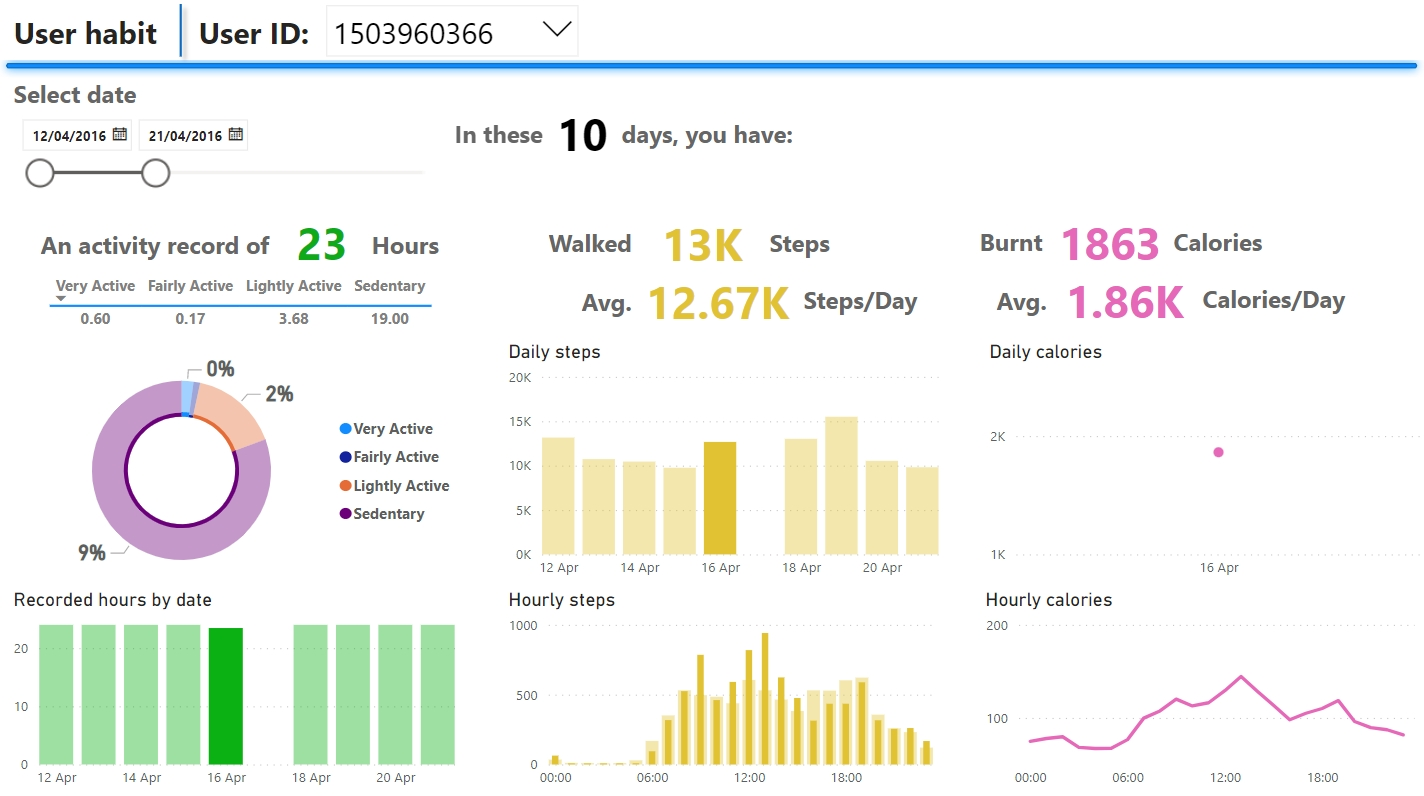

This screenshot's page, from the dashboard's own definition file:
{"tool":"powerbi","page":{"name":"UserHabit","canvas":[1280,720],"ordinal":0},"visuals":[{"type":"textbox","box":[9.9,10.7,150.4,49.3],"z":0},{"type":"shape","box":[154,0,21.5,65.4],"z":1000},{"type":"donutChart","fields":{"Y":["Sum(dailyActivity_user.VeryActiveHr)","Sum(dailyActivity_user.FairlyActiveHr)","Sum(dailyActivity_user.LightlyActiveHr)","Sum(dailyActivity_user.TotalSedentaryHr)"]},"box":[19.7,307.3,399.4,239.1],"z":2000},{"type":"slicer","title":"Select date","fields":{"Values":["Date.Date"]},"box":[9.9,74.3,394.9,106.6],"z":3000},{"type":"textbox","box":[34,205.2,223.9,39.4],"z":4000},{"type":"textbox","box":[330.4,205.2,81.5,43],"z":5000},{"type":"textbox","box":[686.7,203.3,81.5,43],"z":6000},{"type":"card","fields":{"Values":["Sum(dailyActivity_user.TotalSteps)"]},"box":[575.6,199.8,111,45.7],"z":7000},{"type":"textbox","box":[488.8,203.3,97.6,42.1],"z":8000},{"type":"tableEx","fields":{"Values":["Sum(dailyActivity_user.Very Active)","Sum(dailyActivity_user.Fairly Active)","Sum(dailyActivity_user.Lightly Active)","Sum(dailyActivity_user.Sedentary)"]},"box":[41.2,246.4,367.2,62.7],"z":9000},{"type":"textbox","box":[175.5,10.7,121.8,49.3],"z":10000},{"type":"textbox","box":[404.8,105.7,98.5,37.6],"z":11000},{"type":"textbox","box":[554.3,105.7,185.4,37.6],"z":12000},{"type":"card","fields":{"Values":["dailyActivity_user.DayDiff"]},"box":[491.6,94,65.4,60.9],"z":13000},{"type":"card","fields":{"Values":["Sum(dailyActivity_user.TotalHr)"]},"box":[250.7,198.9,81.5,45.7],"z":14000},{"type":"textbox","box":[518.7,256.4,66.3,42.1],"z":15000},{"type":"card","fields":{"Values":["Avg(dailyActivity_user.TotalSteps)"]},"box":[575.2,251.9,141.5,45.7],"z":16000},{"type":"textbox","box":[717.5,254.5,128.1,43],"z":17000},{"type":"textbox","box":[1048.7,202.4,116.4,43],"z":18000},{"type":"textbox","box":[875.1,202.4,97.6,42.1],"z":19000},{"type":"textbox","box":[890.5,255.4,69.9,42.1],"z":20000},{"type":"card","fields":{"Values":["Avg(dailyActivity_user.Calories)"]},"box":[945.2,250.9,128.1,45.7],"z":21000},{"type":"textbox","box":[1074.2,253.7,146,43],"z":22000},{"type":"lineChart","title":"Daily calories","fields":{"Category":["dailyActivity_user.ActivityDate"],"Y":["Avg(dailyActivity_user.Calories)"]},"box":[884.1,309.4,395.9,222],"z":23000},{"type":"card","fields":{"Values":["Sum(dailyActivity_user.Calories)"]},"box":[945.6,198.7,102.1,45.7],"z":24000},{"type":"clusteredColumnChart","title":"Daily steps","fields":{"Category":["dailyActivity_user.ActivityDate"],"Y":["Avg(dailyActivity_user.TotalSteps)"]},"box":[452.9,309.4,399.8,222],"z":25000},{"type":"clusteredColumnChart","title":"Hourly steps","fields":{"Category":["hourlySteps_duplicate.ActivityHour"],"Y":["Avg(hourlySteps_duplicate.Steps)"]},"box":[452.8,531.9,400.3,188.1],"z":26000},{"type":"lineChart","title":"Hourly calories","fields":{"Category":["hourlyCalories.ActivityHour"],"Y":["Avg(hourlyCalories.Calories)"]},"box":[880.3,531.9,399.4,188.1],"z":27000},{"type":"clusteredColumnChart","title":"Recorded hours by date","fields":{"Category":["dailyActivity_user.ActivityDate"],"Y":["Sum(dailyActivity_user.TotalHr)"]},"box":[9.9,531.9,409.3,188.1],"z":28000},{"type":"slicer","title":"Select User","fields":{"Values":["dailyActivity_user.Id"]},"box":[284.8,0,246.3,76.1],"z":29000},{"type":"shape","box":[0,53.7,1279.7,20.6],"z":30000}]}

Visuals, with their boxes in screenshot pixels (x1, y1, x2, y2), scaled from the page's 1280x720 canvas onto the 1424x796 screenshot:
textbox: rect(11, 12, 178, 66)
shape: rect(171, 0, 195, 72)
donutChart - Sum(dailyActivity_user.VeryActiveHr) x Sum(dailyActivity_user.FairlyActiveHr): rect(22, 340, 466, 604)
"Select date" slicer: rect(11, 82, 450, 200)
textbox: rect(38, 227, 287, 270)
textbox: rect(368, 227, 458, 274)
textbox: rect(764, 225, 855, 272)
card - Sum(dailyActivity_user.TotalSteps): rect(640, 221, 764, 271)
textbox: rect(544, 225, 652, 271)
tableEx - Sum(dailyActivity_user.Very Active) x Sum(dailyActivity_user.Fairly Active): rect(46, 272, 454, 342)
textbox: rect(195, 12, 331, 66)
textbox: rect(450, 117, 560, 158)
textbox: rect(617, 117, 823, 158)
card - dailyActivity_user.DayDiff: rect(547, 104, 620, 171)
card - Sum(dailyActivity_user.TotalHr): rect(279, 220, 370, 270)
textbox: rect(577, 283, 651, 330)
card - Avg(dailyActivity_user.TotalSteps): rect(640, 278, 797, 329)
textbox: rect(798, 281, 941, 329)
textbox: rect(1167, 224, 1296, 271)
textbox: rect(974, 224, 1082, 270)
textbox: rect(991, 282, 1068, 329)
card - Avg(dailyActivity_user.Calories): rect(1052, 277, 1194, 328)
textbox: rect(1195, 280, 1357, 328)
"Daily calories" lineChart: rect(984, 342, 1423, 587)
card - Sum(dailyActivity_user.Calories): rect(1052, 220, 1166, 270)
"Daily steps" clusteredColumnChart: rect(504, 342, 949, 587)
"Hourly steps" clusteredColumnChart: rect(504, 588, 949, 795)
"Hourly calories" lineChart: rect(979, 588, 1423, 795)
"Recorded hours by date" clusteredColumnChart: rect(11, 588, 466, 795)
"Select User" slicer: rect(317, 0, 591, 84)
shape: rect(0, 59, 1423, 82)
